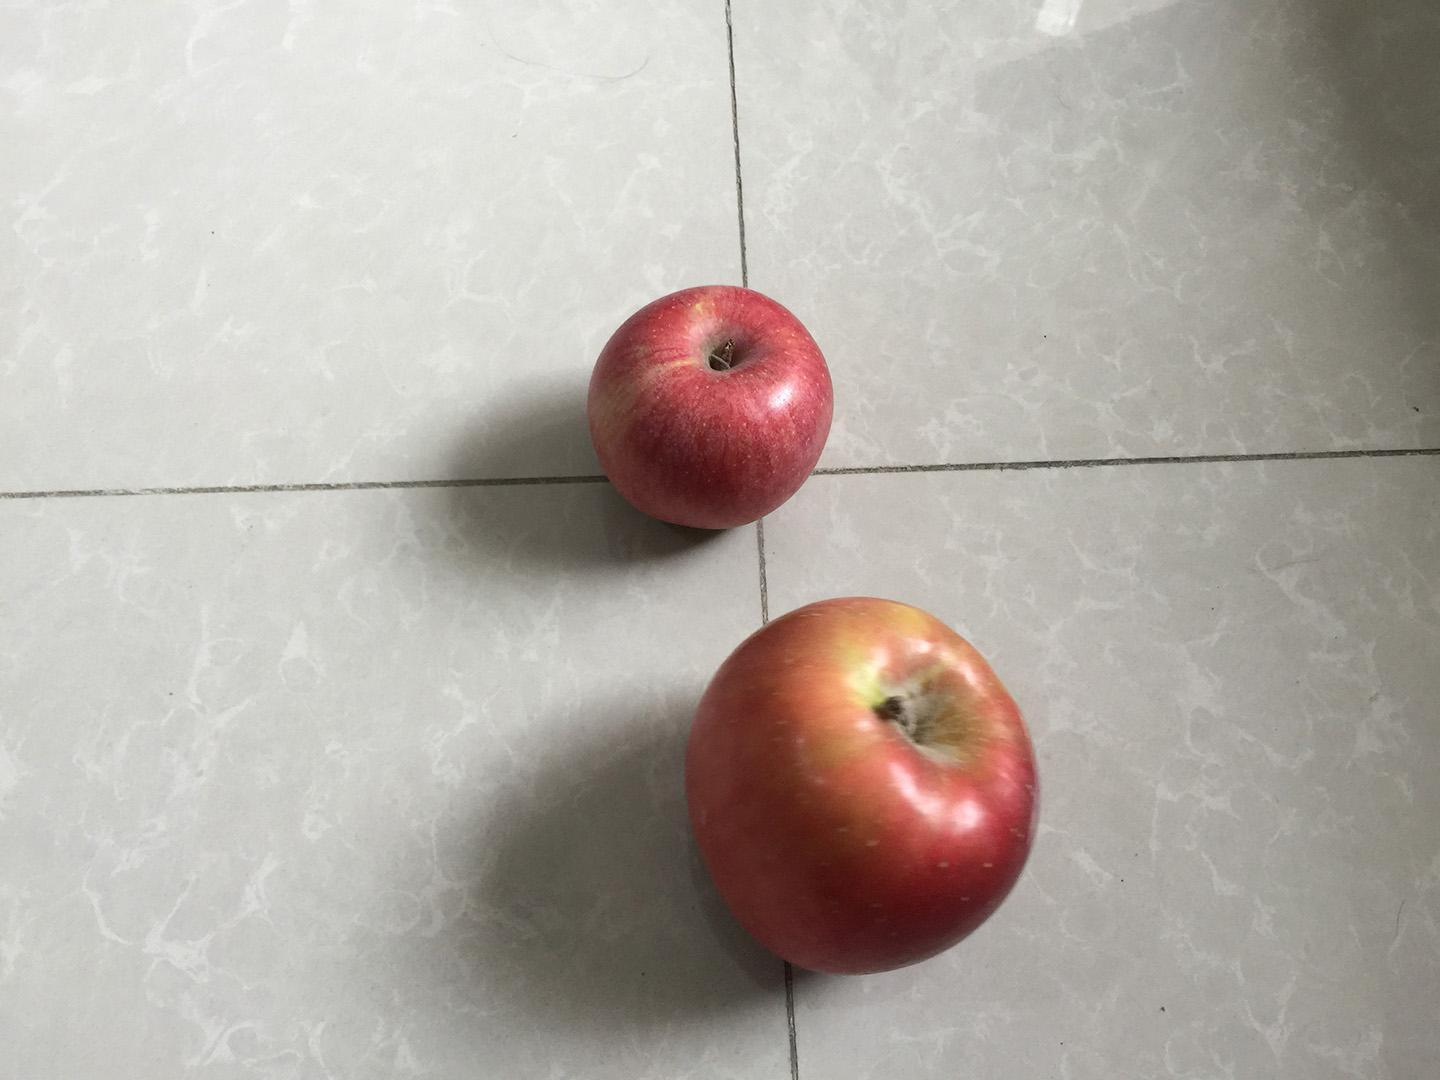apple: (676, 588, 1043, 984), (581, 275, 842, 535)
